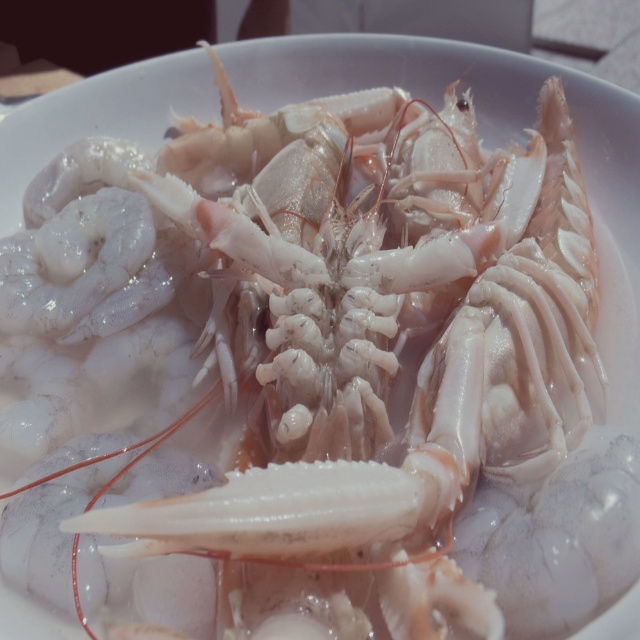Shrimp: (0, 33, 640, 640)
